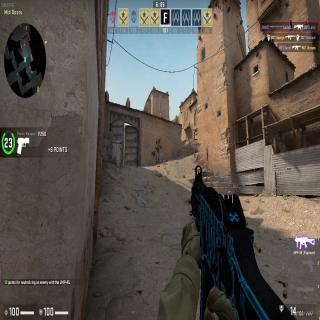CT-Body: (155, 141, 159, 164)
CT-Head: (156, 141, 158, 145)
